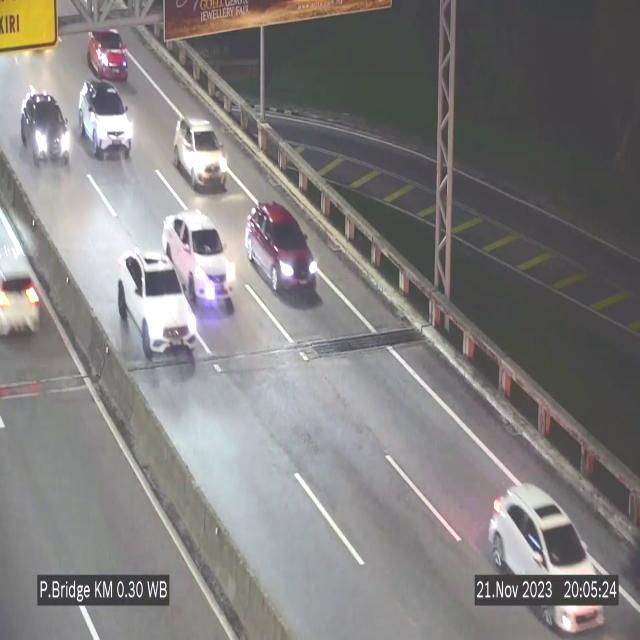Car: (488, 469, 604, 640), (118, 252, 196, 363), (245, 202, 319, 296), (162, 213, 232, 308), (0, 234, 50, 352), (78, 78, 132, 157), (20, 91, 73, 169), (174, 118, 227, 190), (87, 29, 128, 80)
